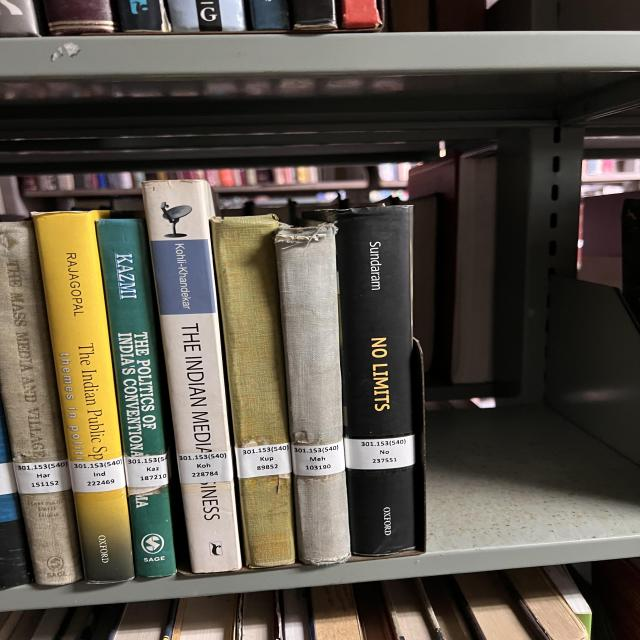Book: (33, 210, 135, 584), (145, 180, 242, 572), (307, 205, 415, 555), (0, 221, 82, 585), (212, 215, 295, 568), (97, 219, 177, 578), (275, 224, 350, 565)
Label: (343, 435, 415, 470), (235, 442, 292, 479), (68, 456, 125, 492), (13, 460, 72, 494), (177, 450, 233, 484), (292, 441, 345, 476), (123, 454, 168, 488)
